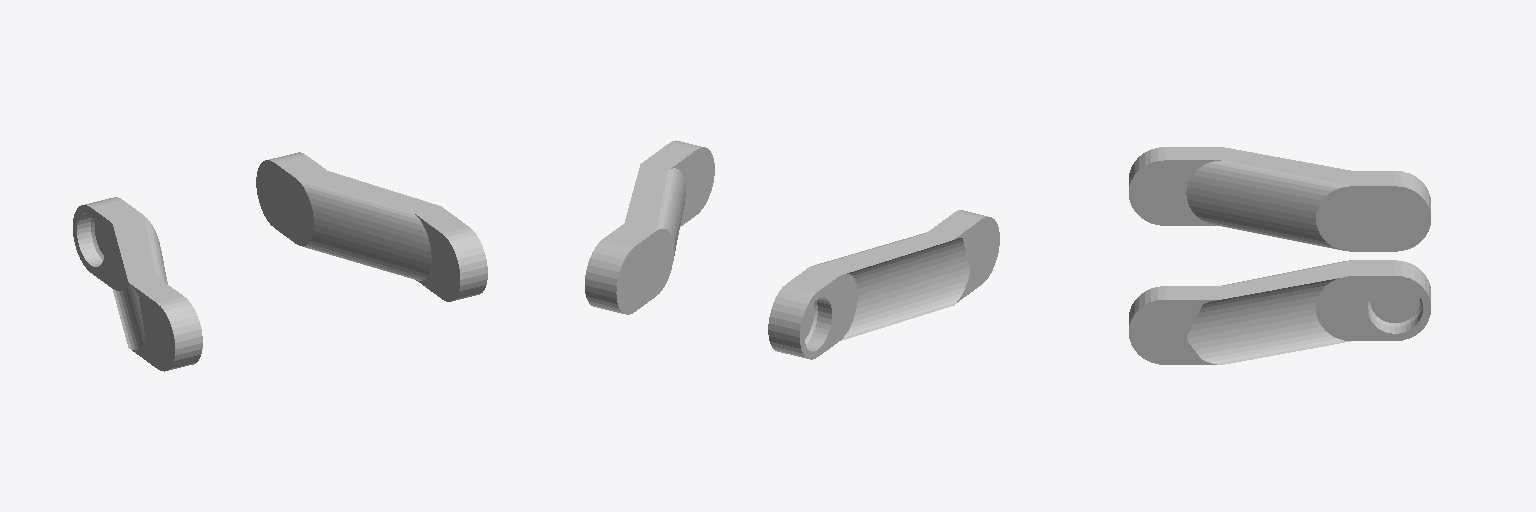
The model's file is OS_HA_Arm_A.obj.
The picture shows the model from 3 angles: view 1: azimuth 30°, elevation 25°; view 2: azimuth 150°, elevation 25°; view 3: azimuth 270°, elevation 25°; orthographic projection.
Parts seen in each view (by area): view 1: Arm_A_Cylinder.001; view 2: Arm_A_Cylinder.001; view 3: Arm_A_Cylinder.001.
Boxes of the visible parts, x1=… form: Arm_A_Cylinder.001: x1=73, y1=152, x2=487, y2=371; Arm_A_Cylinder.001: x1=585, y1=140, x2=999, y2=359; Arm_A_Cylinder.001: x1=1129, y1=147, x2=1430, y2=364.
Bounding box in the file's own units: 1.5 × 0.3013 × 1.26.